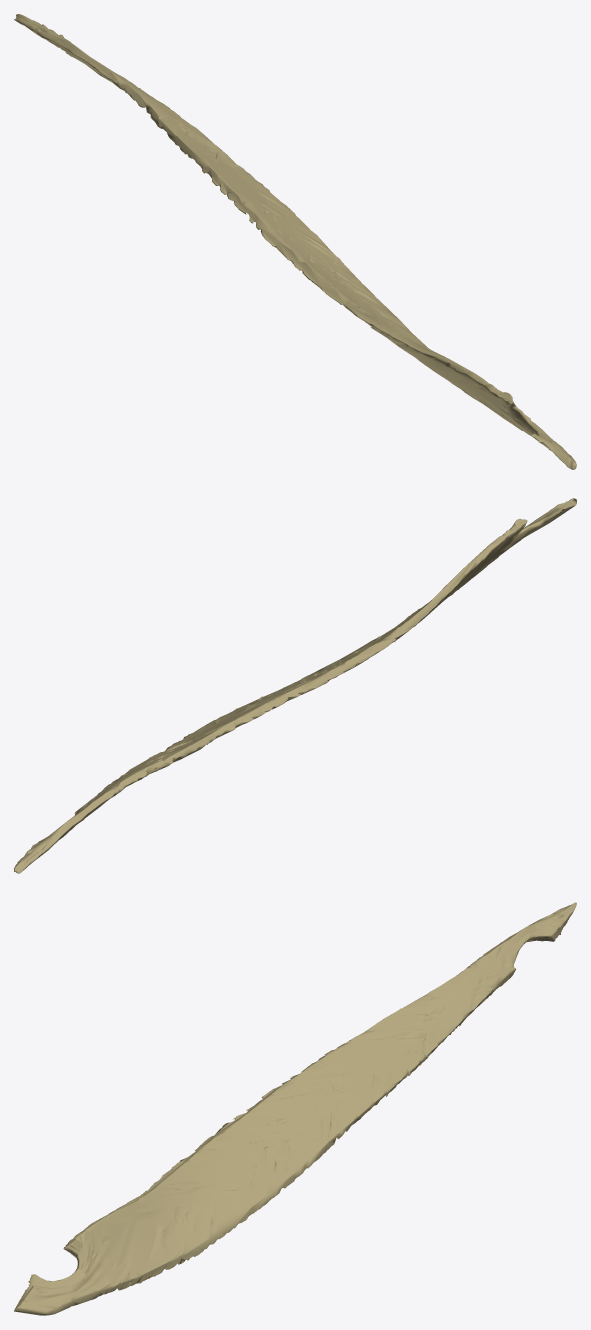
The picture shows the model from 3 angles, top to bottom: view 1: azimuth 30°, elevation 25°; view 2: azimuth 150°, elevation 25°; view 3: azimuth 330°, elevation 25°; orthographic projection. The views are drawn at different scales.
Parts seen in each view (by area): view 1: 右侧小腿骨间膜; view 2: 右侧小腿骨间膜; view 3: 右侧小腿骨间膜.
Part boxes in pixels (x1,y1,x2,y2): 右侧小腿骨间膜: [14, 14, 576, 469]; 右侧小腿骨间膜: [14, 498, 576, 873]; 右侧小腿骨间膜: [14, 902, 576, 1315].
Size of the model in its own units: 0.0332 by 0.0315 by 0.4313.
